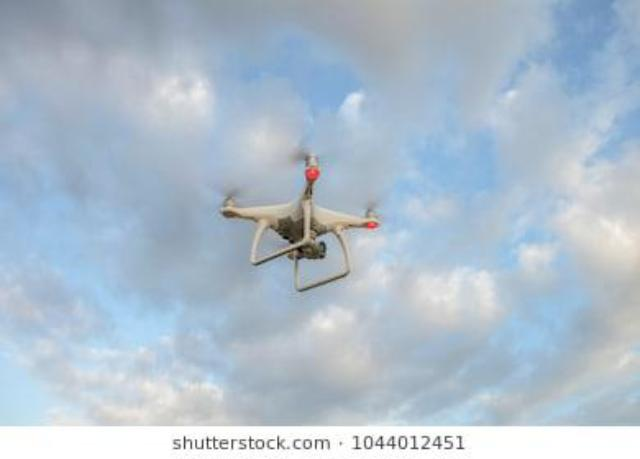drone: (115, 96, 458, 344)
